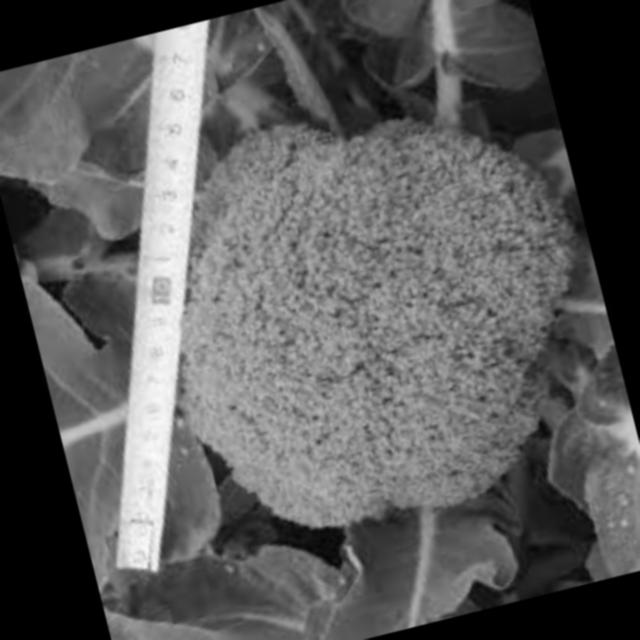broccoli: (102, 46, 629, 612)
